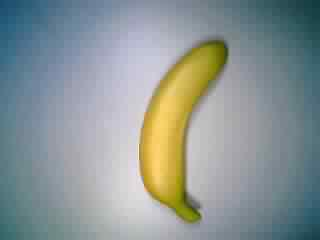banana: (135, 35, 232, 227)
